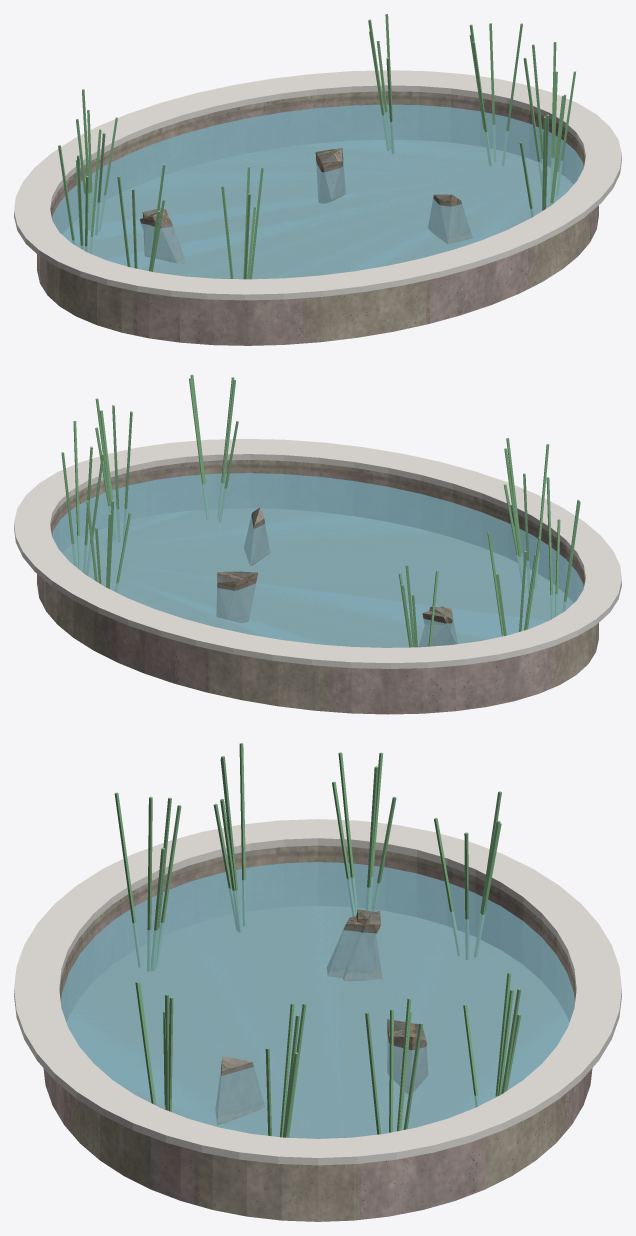
The model's file is pond.glb.
The picture shows the model from 3 angles, top to bottom: view 1: azimuth 30°, elevation 25°; view 2: azimuth 150°, elevation 25°; view 3: azimuth 270°, elevation 25°; orthographic projection. The views are drawn at different scales.
Visible parts, largest first — view 1: pond_water, pond_pond_b, pond_coping, pond_stone, pond_palm, pond_rock; view 2: pond_water, pond_pond_b, pond_coping, pond_stone, pond_palm, pond_rock; view 3: pond_water, pond_pond_b, pond_coping, pond_stone, pond_palm, pond_rock.
Boxes of the visible parts, box(x1,y1,x2,y2) form: pond_water: box(52, 104, 583, 279); pond_pond_b: box(69, 140, 573, 278); pond_coping: box(14, 70, 621, 300); pond_stone: box(37, 91, 598, 345); pond_palm: box(58, 14, 575, 279); pond_rock: box(140, 148, 472, 263); pond_water: box(52, 473, 583, 647); pond_pond_b: box(62, 508, 573, 647); pond_coping: box(14, 438, 621, 668); pond_stone: box(37, 460, 598, 714); pond_palm: box(61, 374, 580, 647); pond_rock: box(216, 507, 457, 646); pond_water: box(61, 862, 574, 1138); pond_pond_b: box(67, 906, 567, 1138); pond_coping: box(14, 819, 621, 1165); pond_stone: box(43, 845, 592, 1221); pond_palm: box(114, 743, 521, 1137); pond_rock: box(215, 909, 427, 1125).
Bounding box in the file's own units: 4.96 × 1.32 × 3.76.
6 materials, 2 textured.
